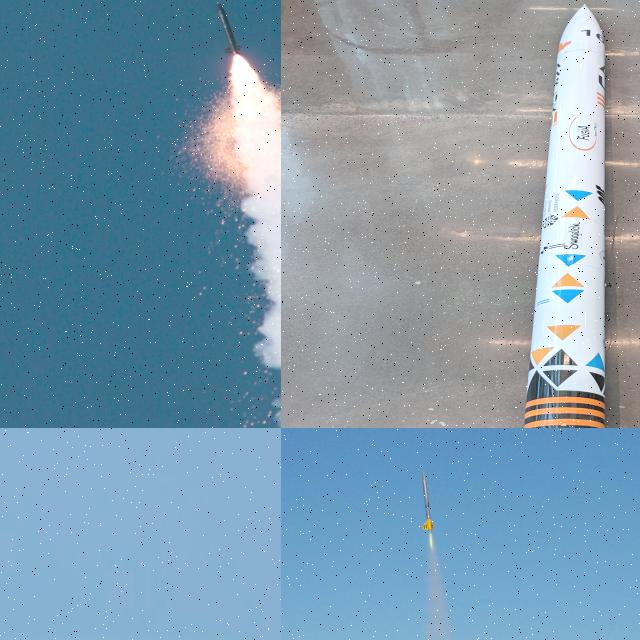Rocket: (523, 4, 606, 428), (216, 1, 245, 56), (421, 470, 436, 532)
